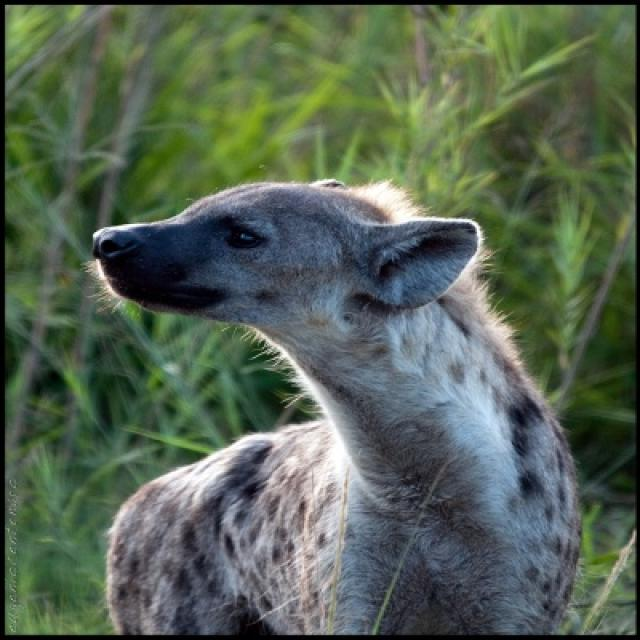hyena: (91, 182, 582, 632)
